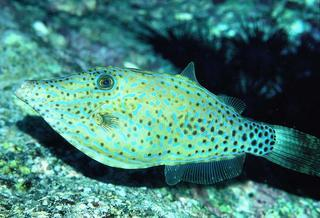Aluterus_scriptus: (10, 59, 319, 193)
